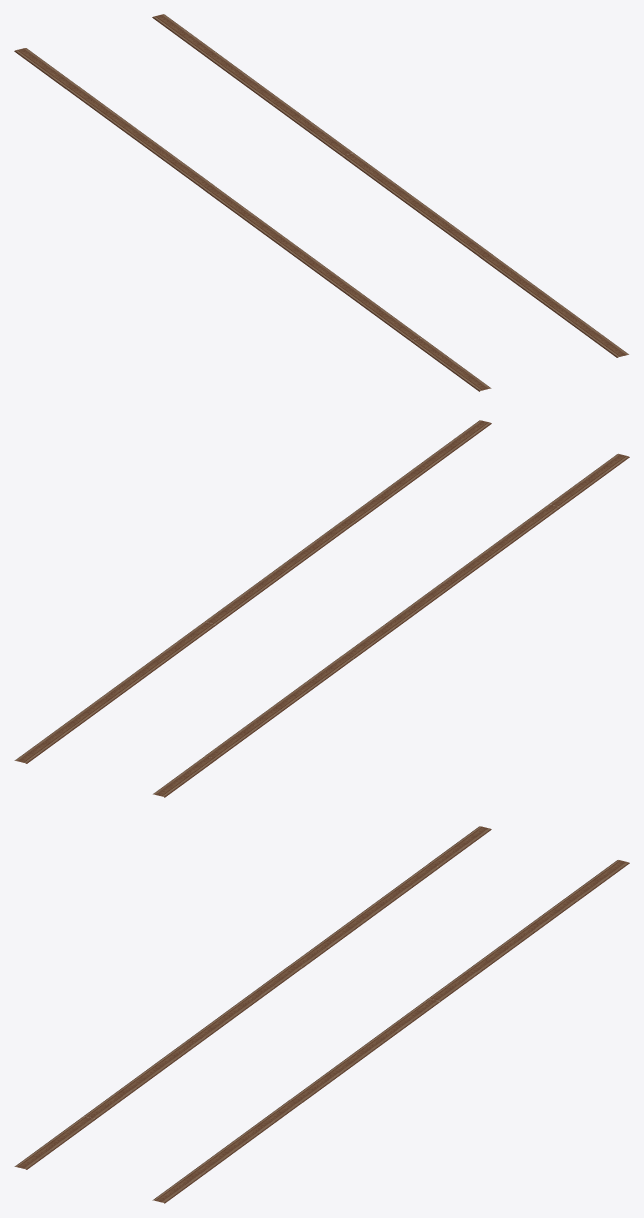
The model's file is Area_07_13.fbx.
The picture shows the model from 3 angles, top to bottom: view 1: azimuth 30°, elevation 25°; view 2: azimuth 150°, elevation 25°; view 3: azimuth 330°, elevation 25°; orthographic projection.
Parts seen in each view (by area): view 1: Area_07_13; view 2: Area_07_13; view 3: Area_07_13.
Part boxes in pixels (x1,y1,x2,y2): Area_07_13: (14, 14, 628, 391); Area_07_13: (14, 420, 629, 797); Area_07_13: (14, 826, 629, 1203).
Bounding box in the file's own units: 908 × 3.6 × 4855.
